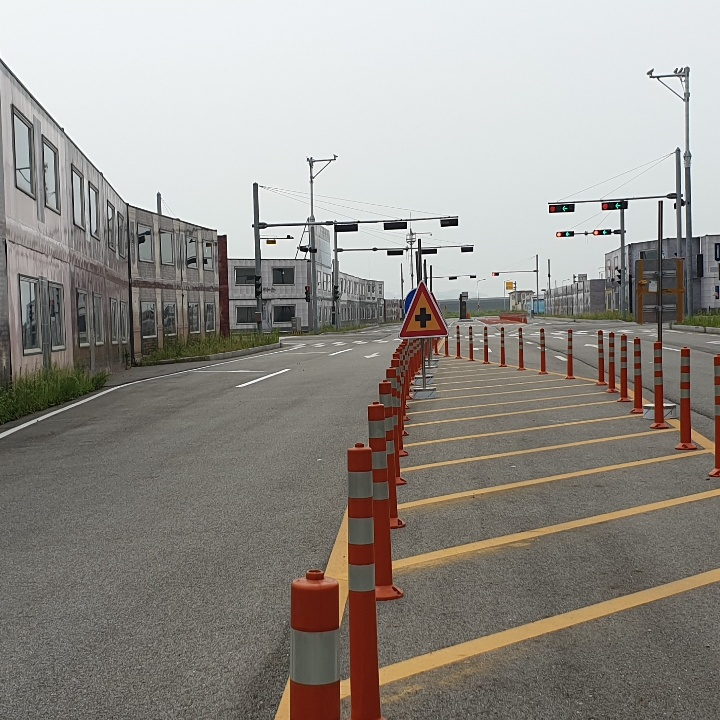inter: (409, 301, 437, 333)
